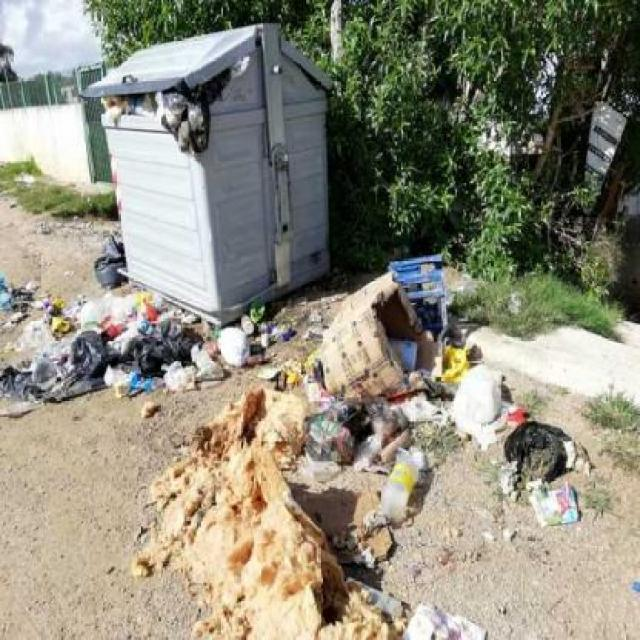garbage: (137, 422, 498, 640), (322, 262, 595, 546), (0, 274, 334, 409), (95, 229, 124, 316)
